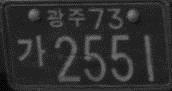1: (142, 33, 156, 83)
2: (53, 36, 81, 82)
3: (106, 7, 124, 30)
5: (110, 34, 133, 82), (84, 34, 106, 83)
7: (87, 7, 105, 30)
가: (18, 33, 47, 66)
광주_O: (46, 7, 86, 29)
